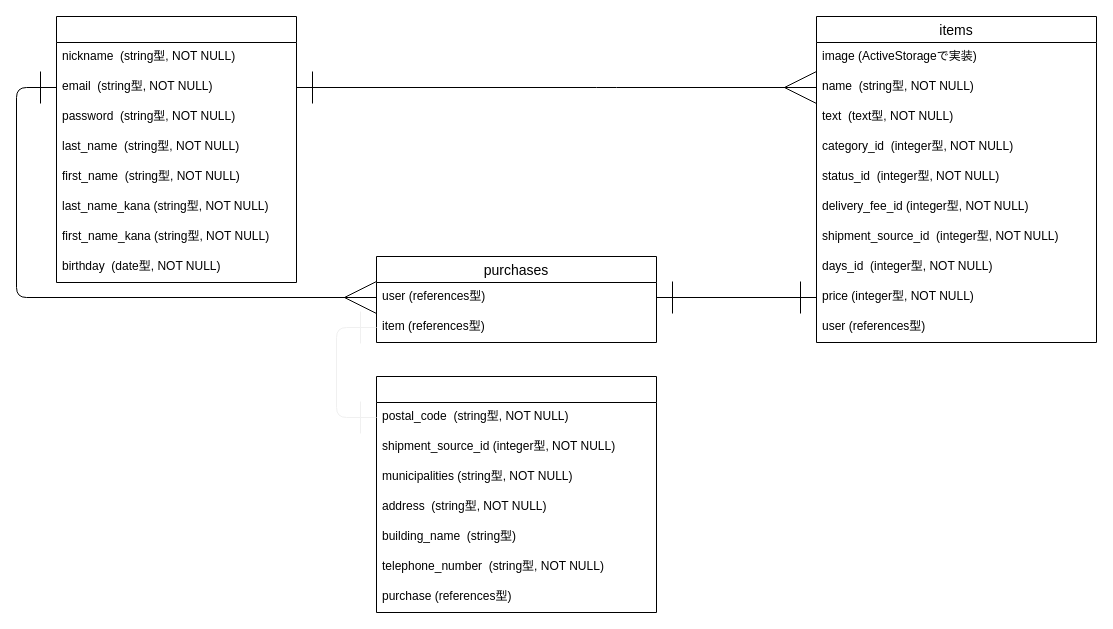
Image size: 1113x629. Some labels were removed from this diagram. The box of each missing label's shape, as (x1, y1, x2, y2) in pixels:
List: (376, 376, 656, 612)
users: (56, 16, 296, 282)
